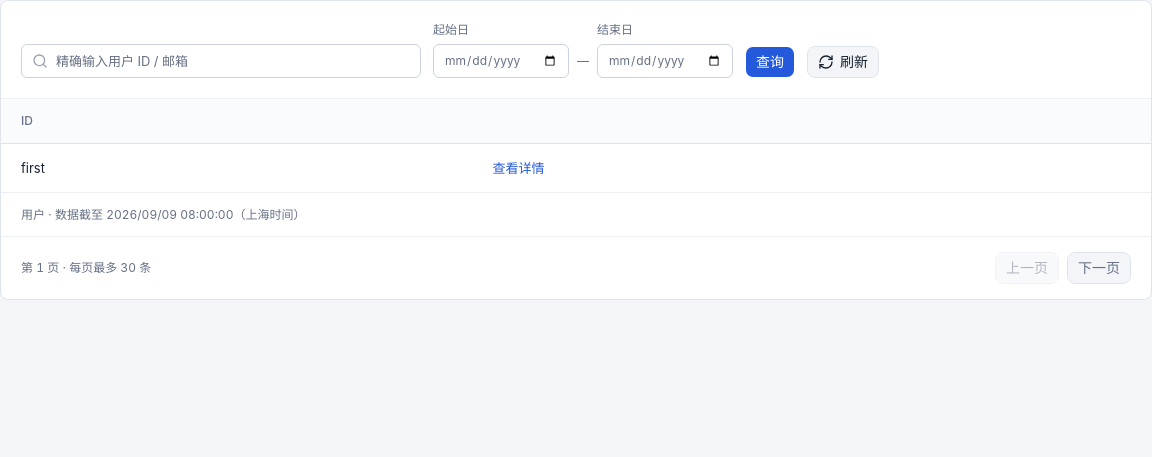
Test case: paginates from server cursors and resets the page for exact search
expect the text "first" is shown: met, box [1,143,473,192]
Click the button "下一页": (1099,268) [1067,252,1131,284]
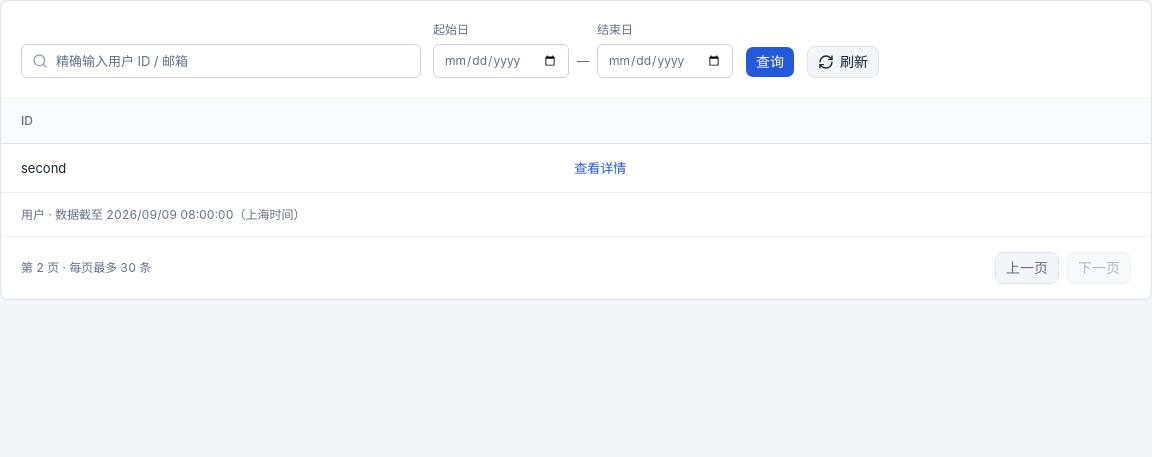
expect the text "second" is shown: met, box [1,143,554,192]
In the field named "精确搜索": (221,61) [21,44,421,78], type "person@example.test"
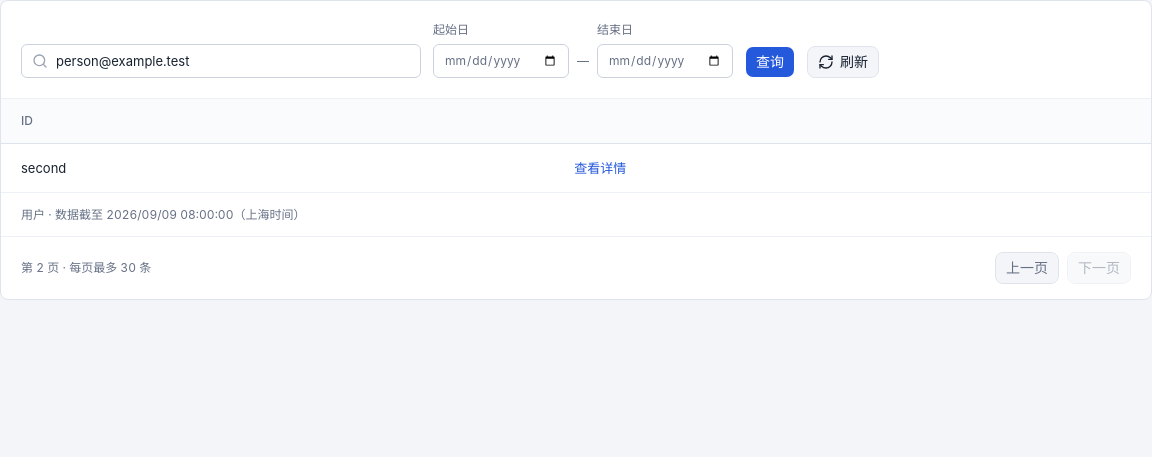
Click the button "查询": (770,62) [745,46,795,78]
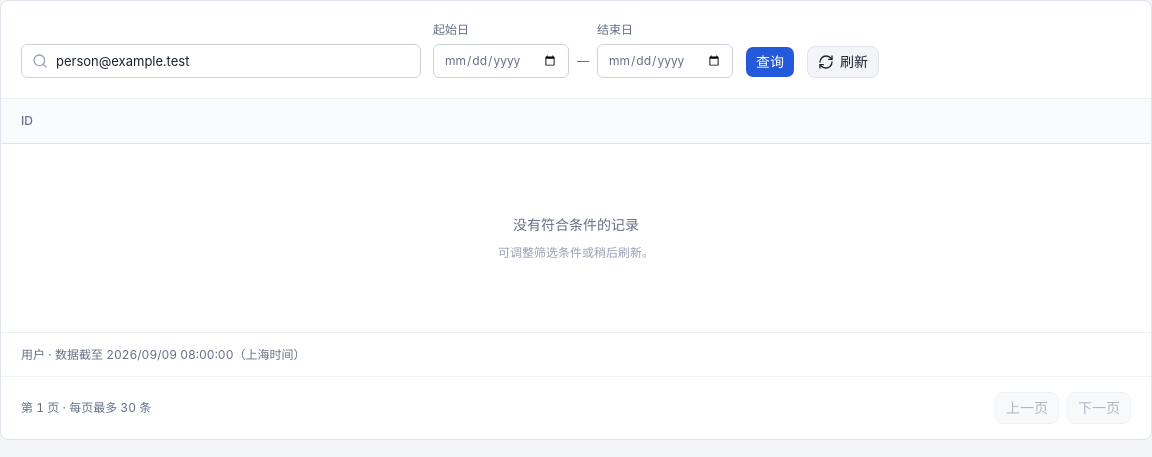
expect the text "没有符合条件的记录" is shown: met, box [513,216,639,232]
